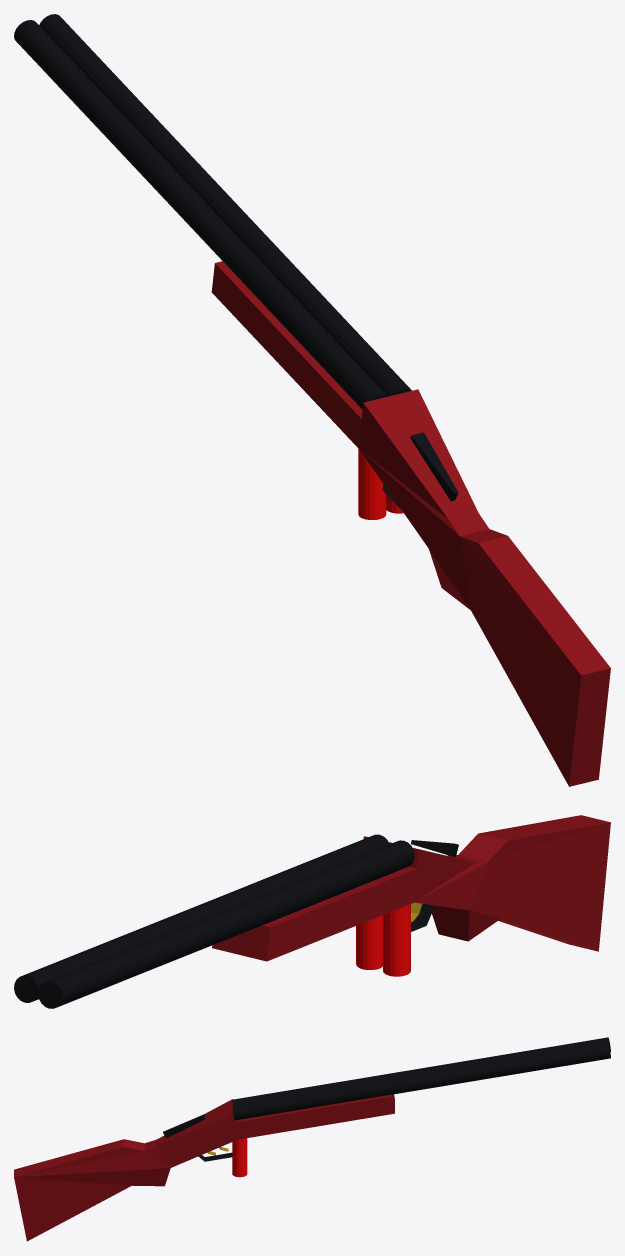
Rendered from double-barreled-shotgun0002.obj.
3 views of the same model, one above another, from view 1: azimuth 30°, elevation 25°; view 2: azimuth 150°, elevation 25°; view 3: azimuth 270°, elevation 25° (orthographic). The views are drawn at different scales.
Parts seen in each view (by area): view 1: rearStock, leftBarrel, rightBarrel, foreGrip, shellPlastic, topLatch; view 2: rearStock, leftBarrel, foreGrip, rightBarrel, shellPlastic, shellPlastic2, topLatch, triggerGuard; view 3: rearStock, rightBarrel, foreGrip, leftBarrel, shellPlastic2, topLatch.
Part boxes in pixels (x1=…): rearStock: x1=358, y1=389, x2=610, y2=786; leftBarrel: x1=14, y1=20, x2=387, y2=409; rightBarrel: x1=39, y1=14, x2=411, y2=396; foreGrip: x1=211, y1=261, x2=362, y2=447; shellPlastic: x1=358, y1=448, x2=386, y2=519; topLatch: x1=410, y1=432, x2=458, y2=501; rearStock: x1=363, y1=815, x2=610, y2=951; leftBarrel: x1=38, y1=840, x2=414, y2=1008; foreGrip: x1=212, y1=866, x2=416, y2=961; rightBarrel: x1=14, y1=834, x2=389, y2=1002; shellPlastic: x1=383, y1=904, x2=410, y2=976; shellPlastic2: x1=356, y1=915, x2=382, y2=969; topLatch: x1=411, y1=840, x2=458, y2=857; triggerGuard: x1=411, y1=904, x2=434, y2=931; rearStock: x1=14, y1=1099, x2=238, y2=1241; rightBarrel: x1=232, y1=1043, x2=610, y2=1120; foreGrip: x1=235, y1=1094, x2=394, y2=1139; leftBarrel: x1=232, y1=1037, x2=610, y2=1105; shellPlastic2: x1=232, y1=1138, x2=247, y2=1177; topLatch: x1=163, y1=1114, x2=205, y2=1138.
Bounding box in the file's own units: 0.2057 × 1.31 × 3.62.
